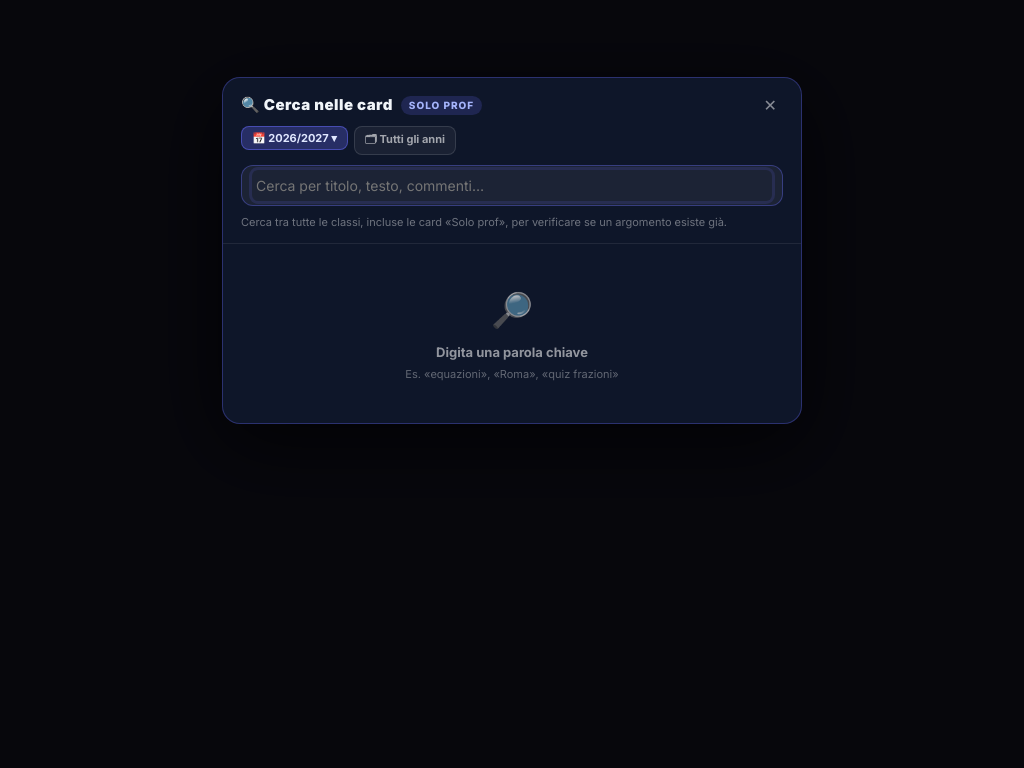
Scenario: CercaModal › matches comment text
Type "fisica" into the field named "Cerca card".
click(512, 186); type("fisica")  # box [252, 170, 772, 201]
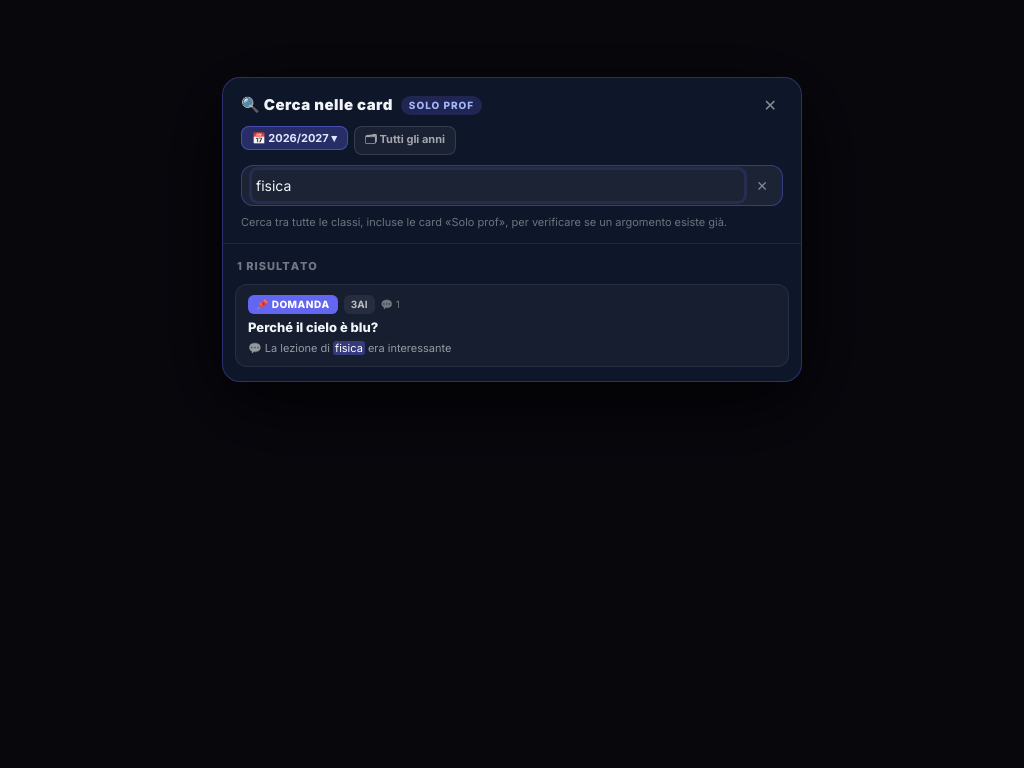
Expected: the button "Perché il cielo è blu" is shown, [235, 284, 789, 367]
